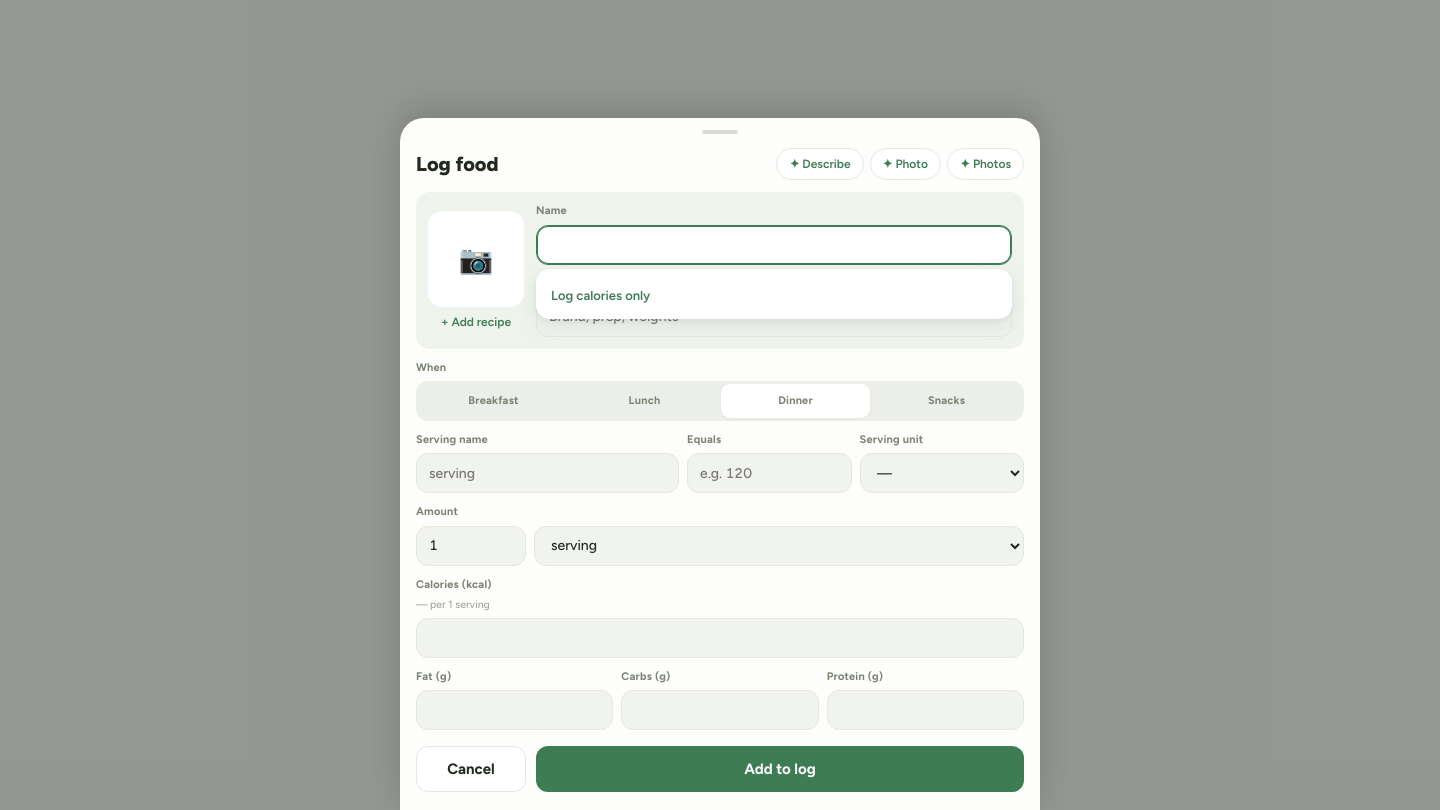
Scenario: EntryForm meal logging › opens the confirm sheet without pre-filling the form when a meal is picked
This screenshot has width=1440, height=810.
Type "taco" into the dropdown labelled "Name". click: (774, 245)
box: top-left (536, 225), bottom-right (1012, 265)
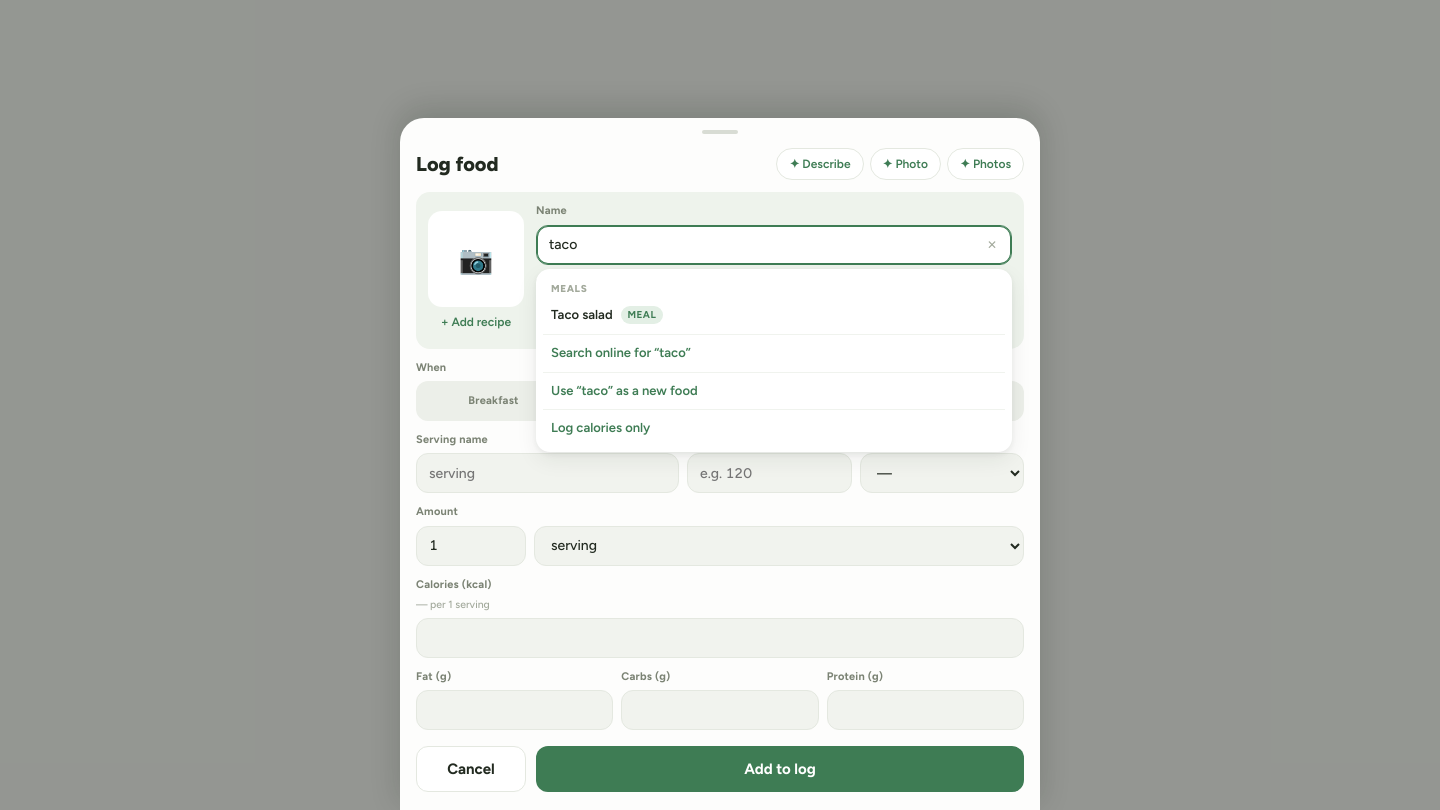
Click the option "Taco salad Meal". click: (607, 315)
box: top-left (551, 306), bottom-right (663, 324)
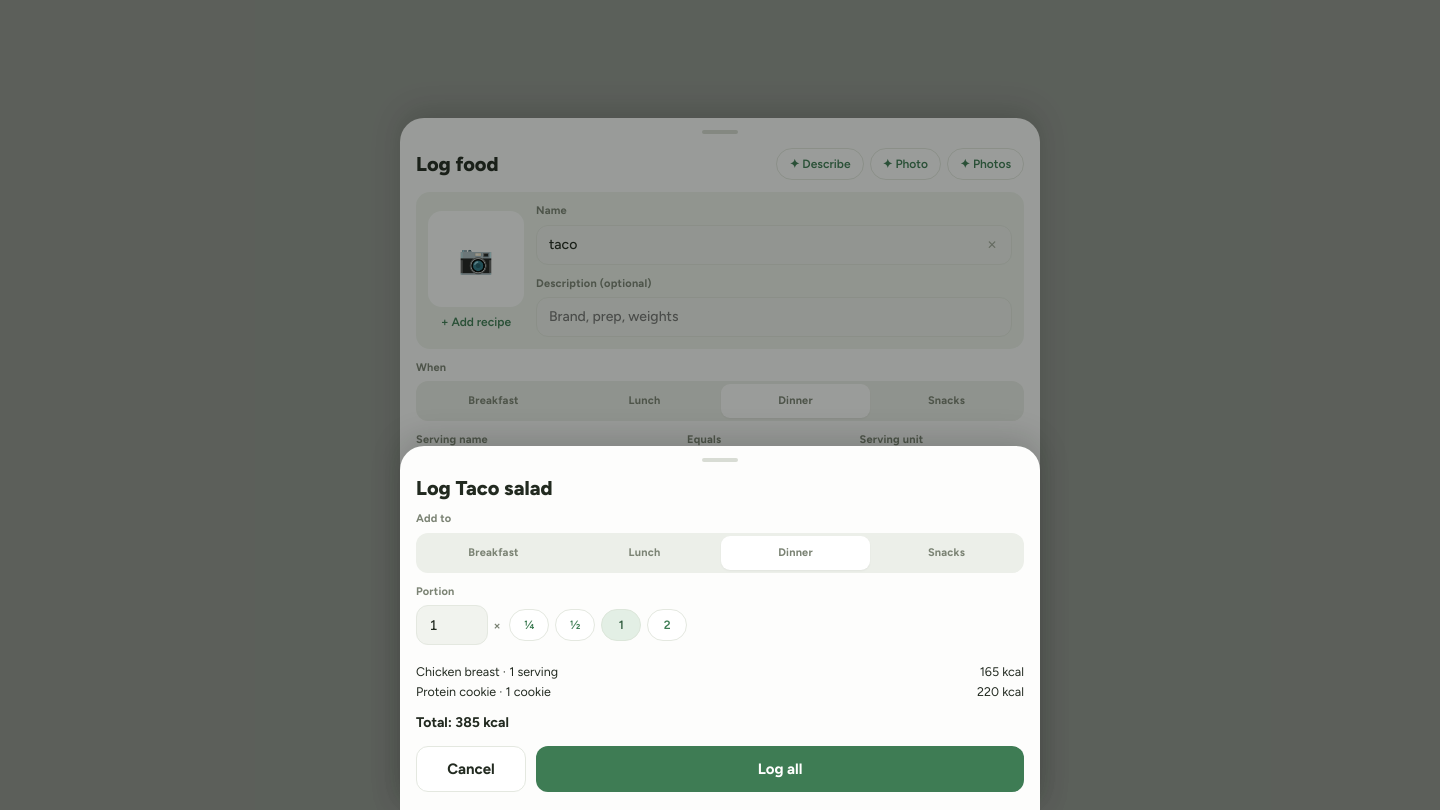
Result: the dialog "Log Taco salad" is shown at top-left (400, 446), bottom-right (1040, 809)
